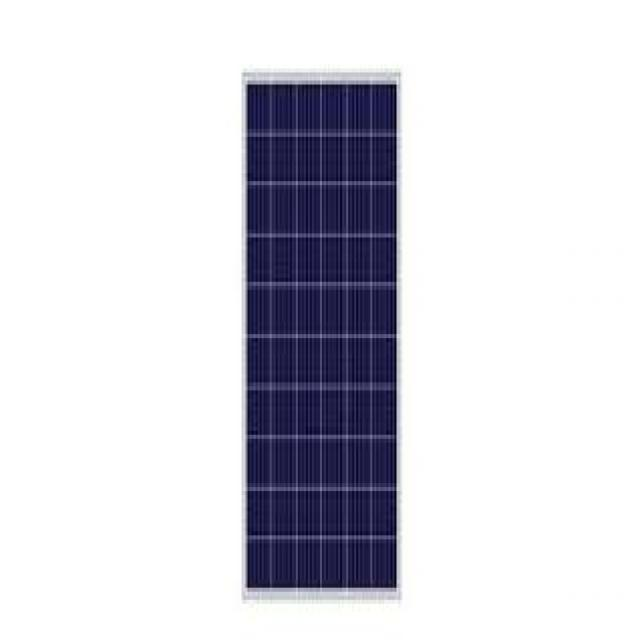no faulty: (242, 69, 401, 596)
